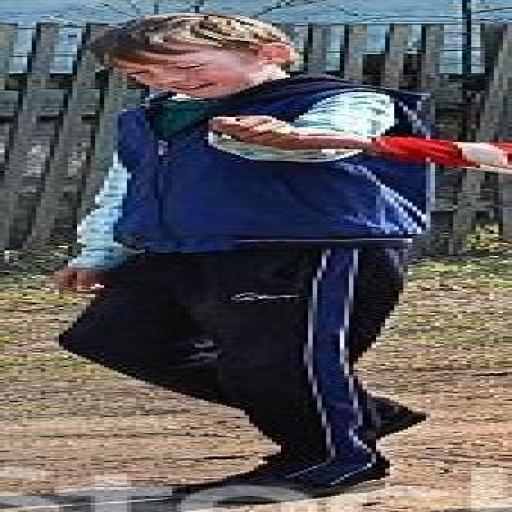person: (55, 14, 430, 497), (209, 116, 511, 172)
